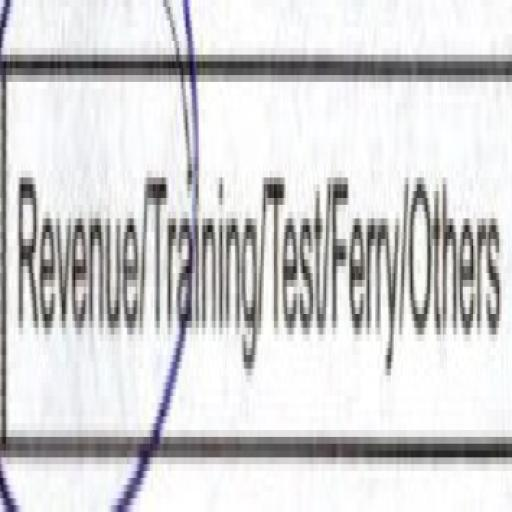check: (1, 2, 154, 512)
